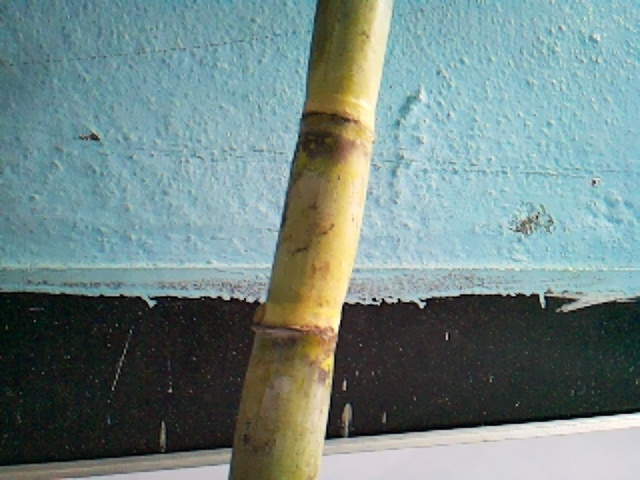Good Sugarcane: (223, 0, 391, 477)
Node: (238, 292, 346, 351), (299, 91, 385, 152)
